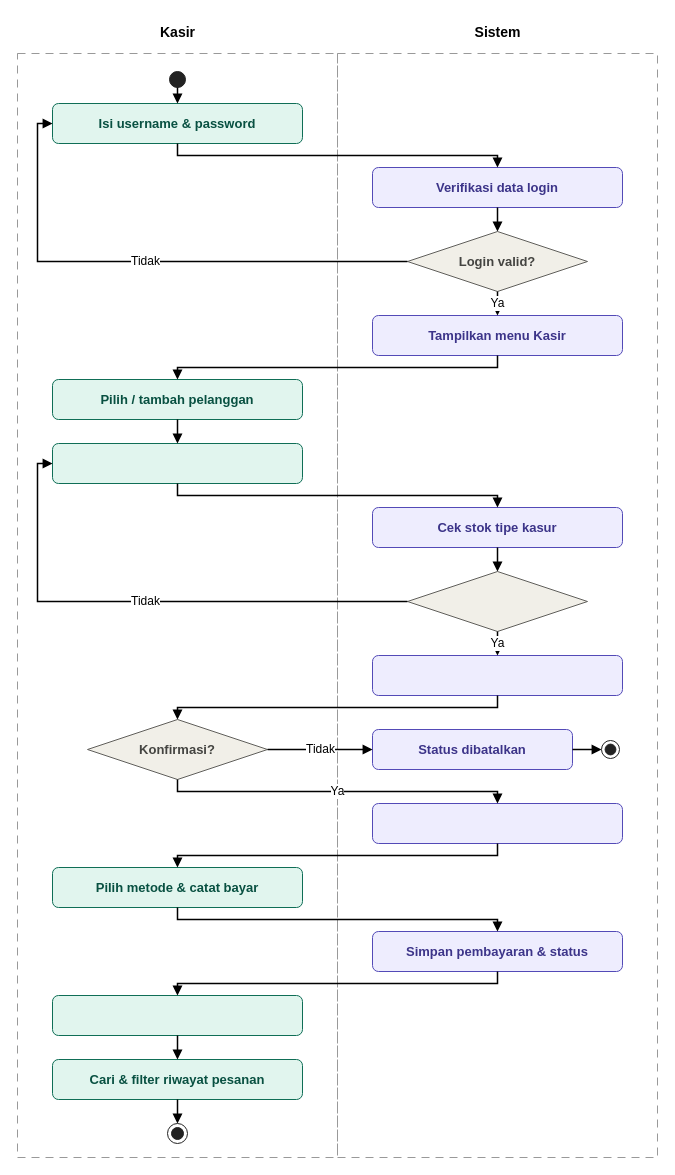
Some shapes in this 675 by 1175 pixel diagram are drawn without their labels. The centre of each missing label's shape, as x and y in pixels:
Cetak bukti pemesanan: [177,1015]
Hitung total & ringkasan: [497,675]
Konfirmasi & kurangi stok: [497,823]
Pilih tipe kasur & jumlah: [177,463]
Stok cukup?: [497,601]
